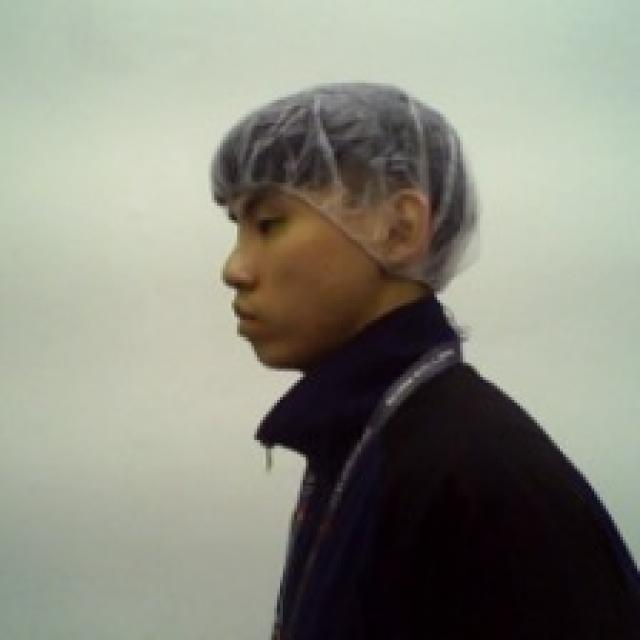gloves: (201, 78, 484, 290)
no_hairnet: (215, 200, 440, 374)
